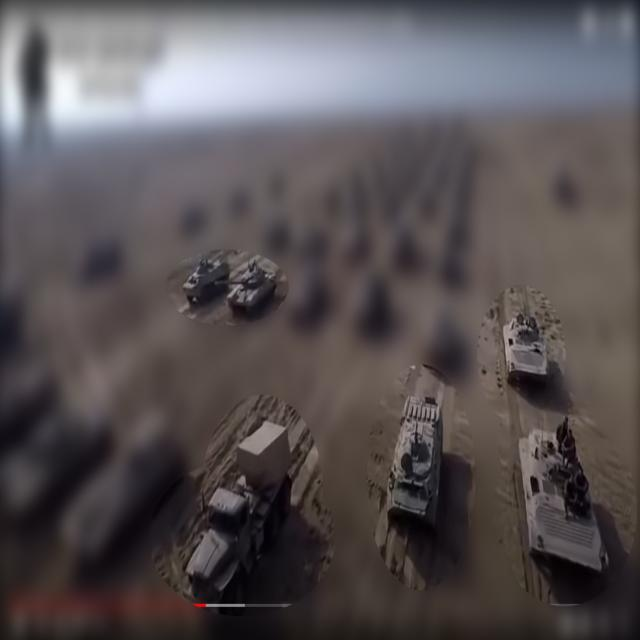tank: (516, 420, 612, 594), (383, 394, 443, 527), (212, 251, 292, 322), (168, 234, 228, 312), (500, 308, 551, 392)
